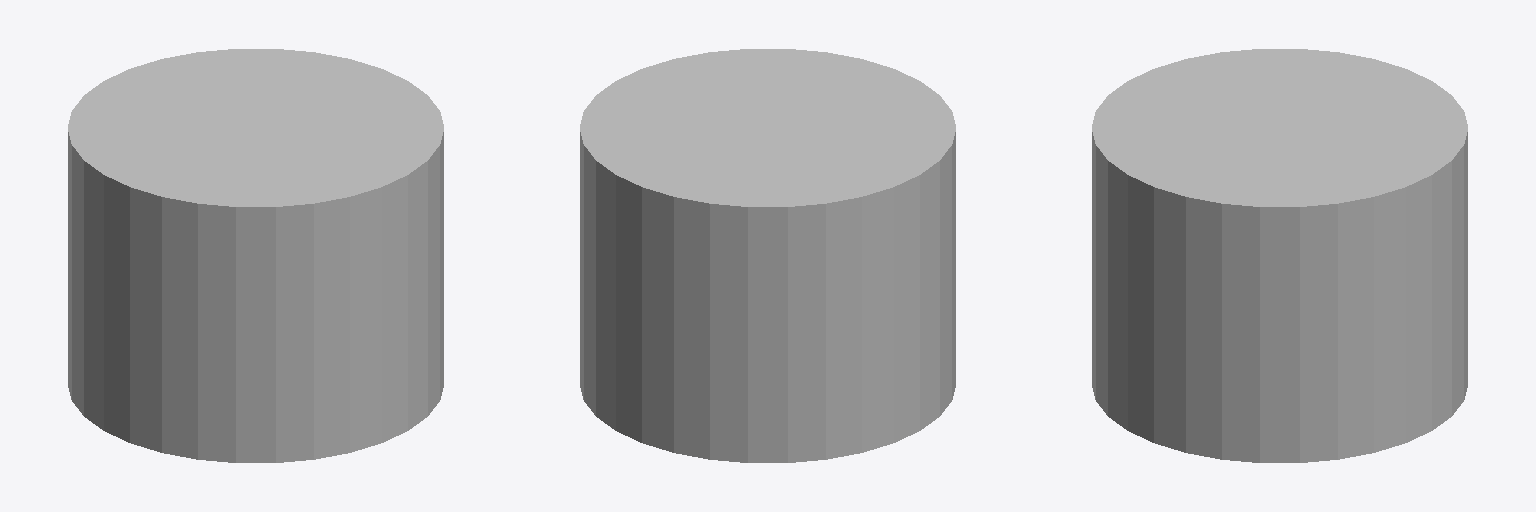
The model's file is xyma.obj.
3 views of the same model, side by side, from view 1: azimuth 30°, elevation 25°; view 2: azimuth 150°, elevation 25°; view 3: azimuth 270°, elevation 25° (orthographic).
Visible parts, largest first — view 1: Cylinder_Cylinder.001; view 2: Cylinder_Cylinder.001; view 3: Cylinder_Cylinder.001.
Part boxes in pixels (bbox=[...]): Cylinder_Cylinder.001: bbox=[68, 49, 443, 462]; Cylinder_Cylinder.001: bbox=[580, 49, 955, 462]; Cylinder_Cylinder.001: bbox=[1092, 49, 1467, 462].
Size of the model in its own units: 1.99 by 1.5 by 2.